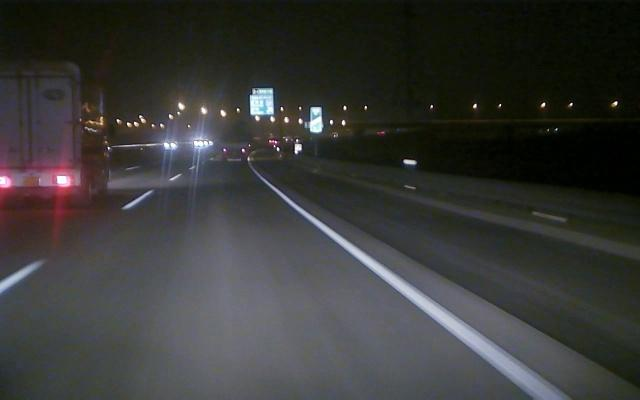lane: (264, 181, 569, 397), (1, 196, 146, 294)
